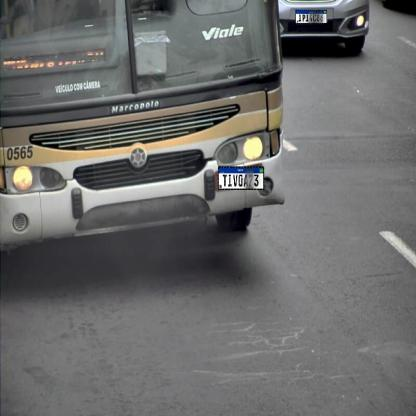PlacaM: (218, 166, 264, 190), (295, 10, 327, 23)
